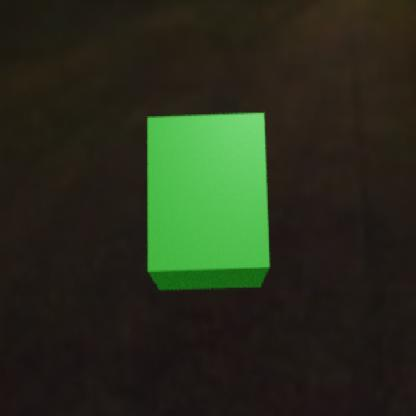cube: (147, 110, 269, 290)
